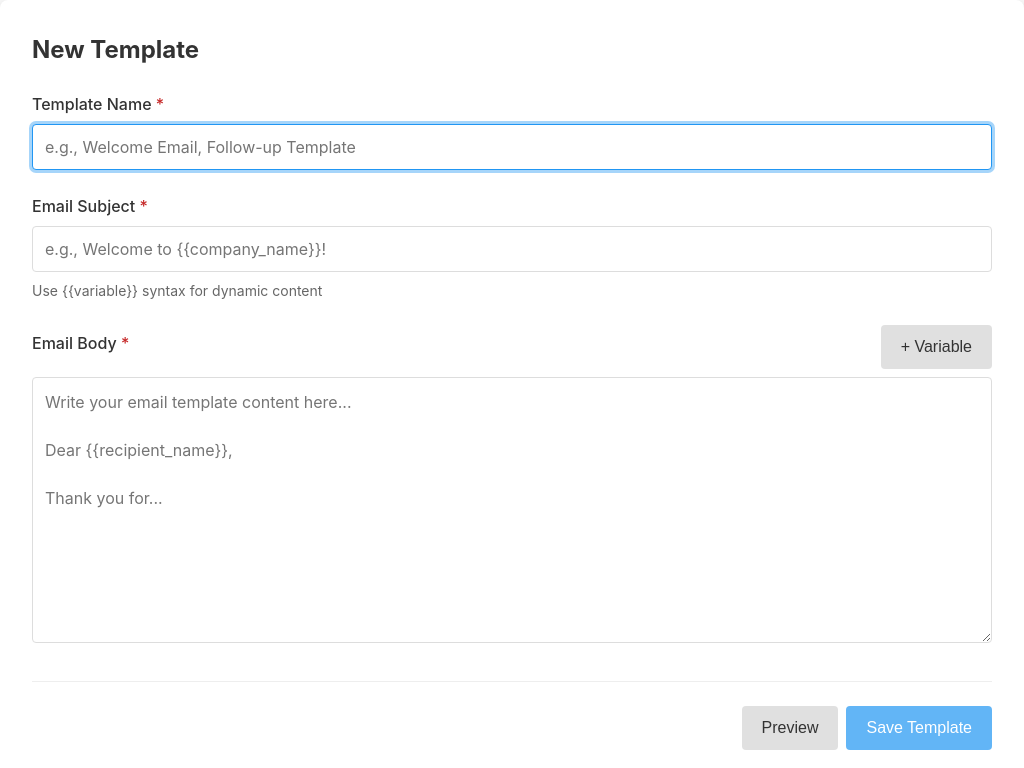
Test: TemplateEditor › Saving › should show success message after save
The width and height of the screenshot is (1024, 768).
Type "Test Name" into the field labelled "Template Name *" at (512,147), box [32, 124, 992, 170]
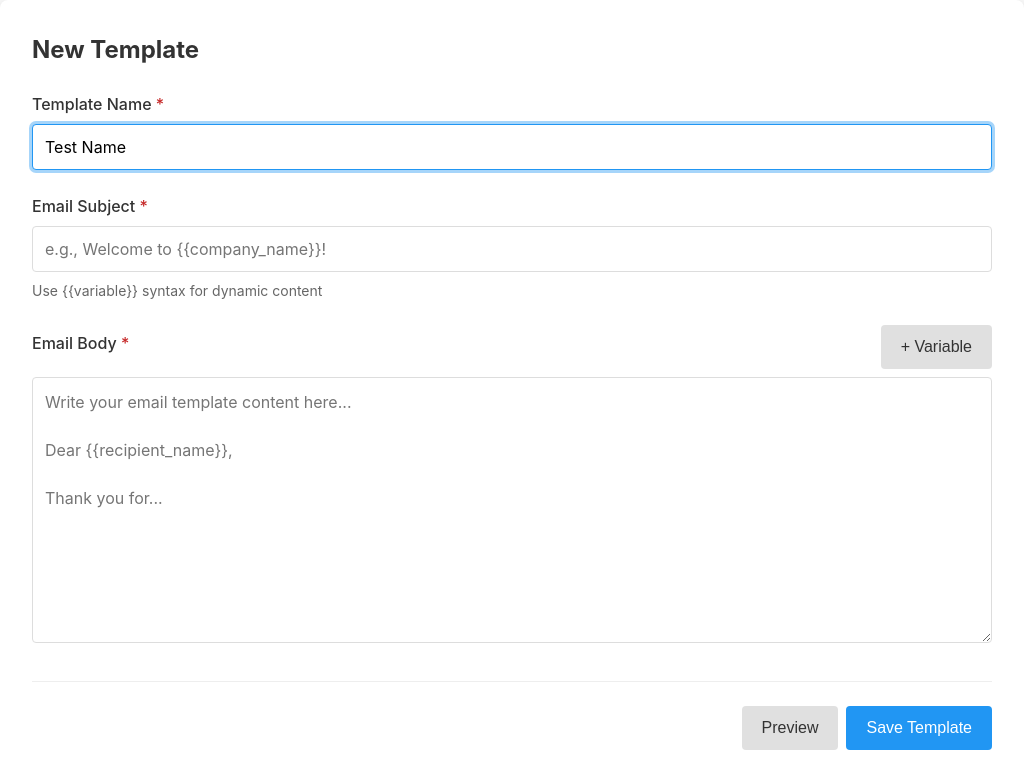
Type "Test Subject" into the field labelled "Email Subject *" at (512,249), box [32, 226, 992, 272]
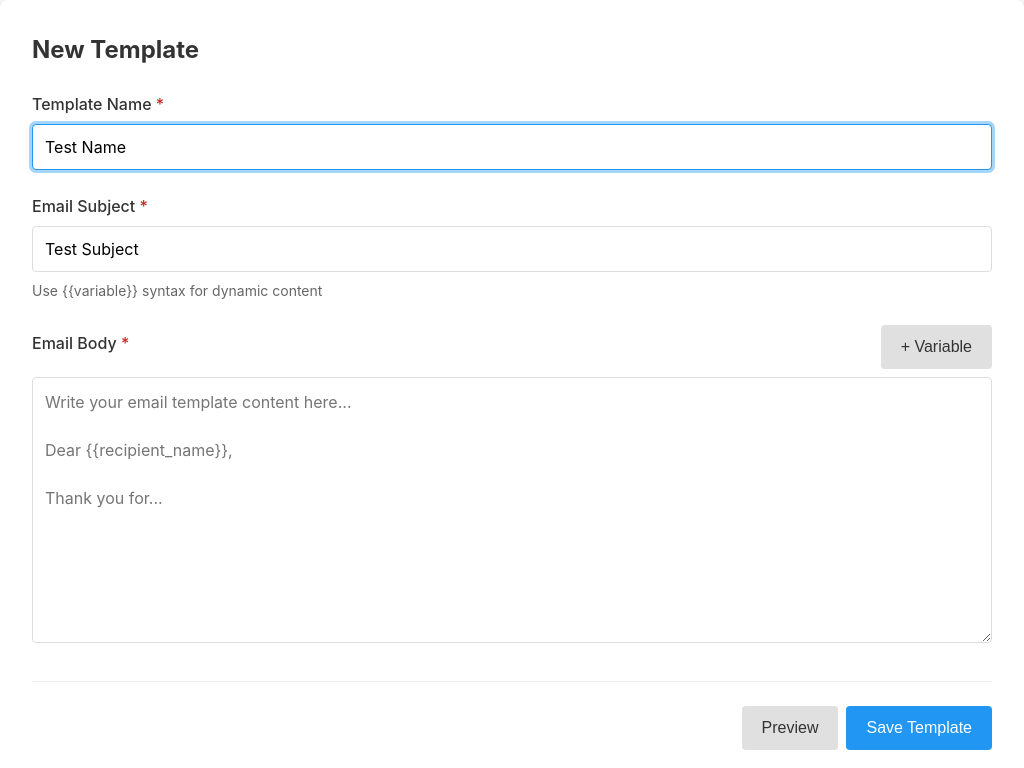
Replace the text in the text box labelled "Email Body *" with "Test Body" at (512,510), box [32, 377, 992, 643]
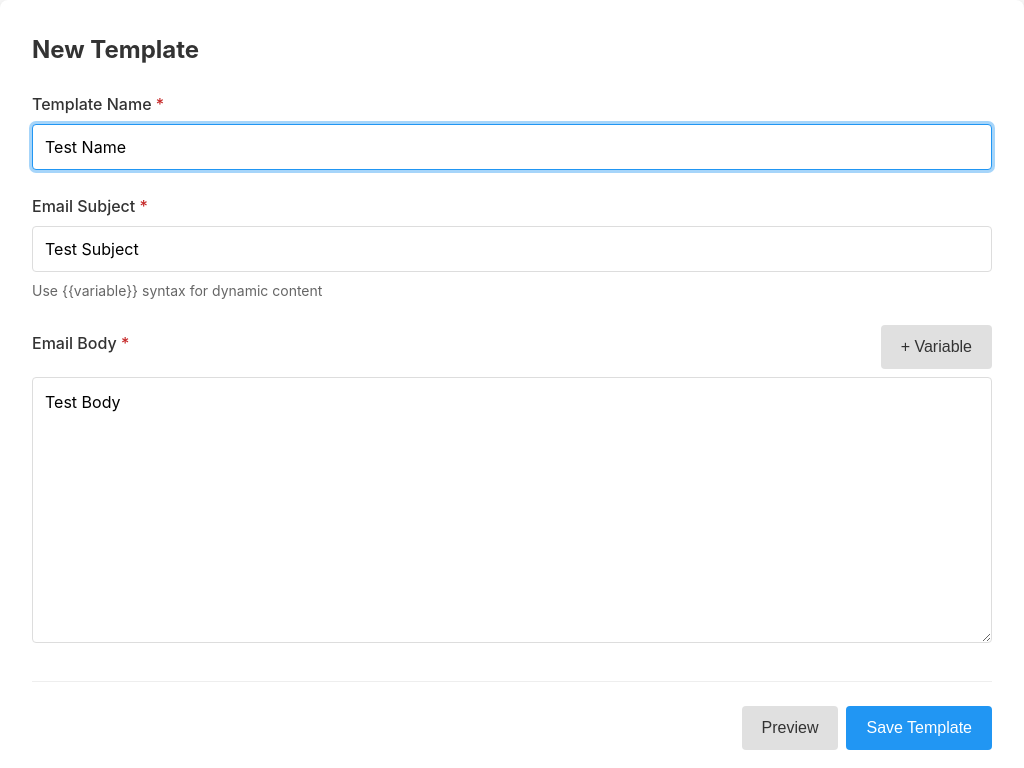
Click the button "Save Template" at (919,728), box [846, 706, 992, 750]
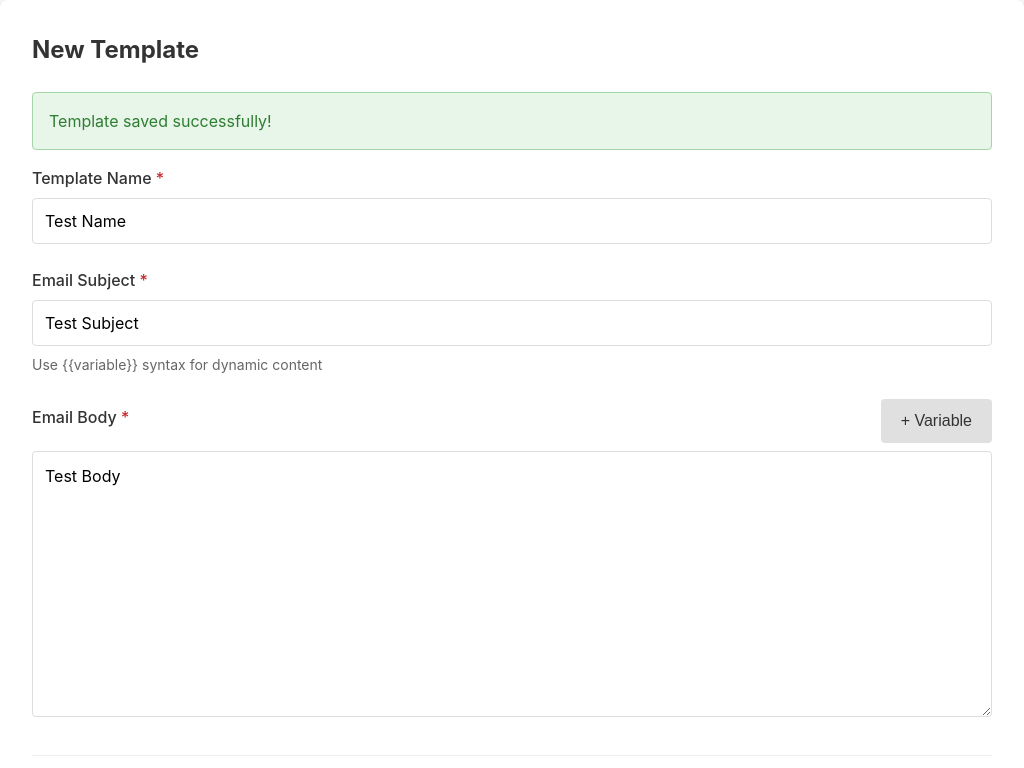
Result: the text "Template saved successfully!" is shown at [32, 92, 992, 150]
